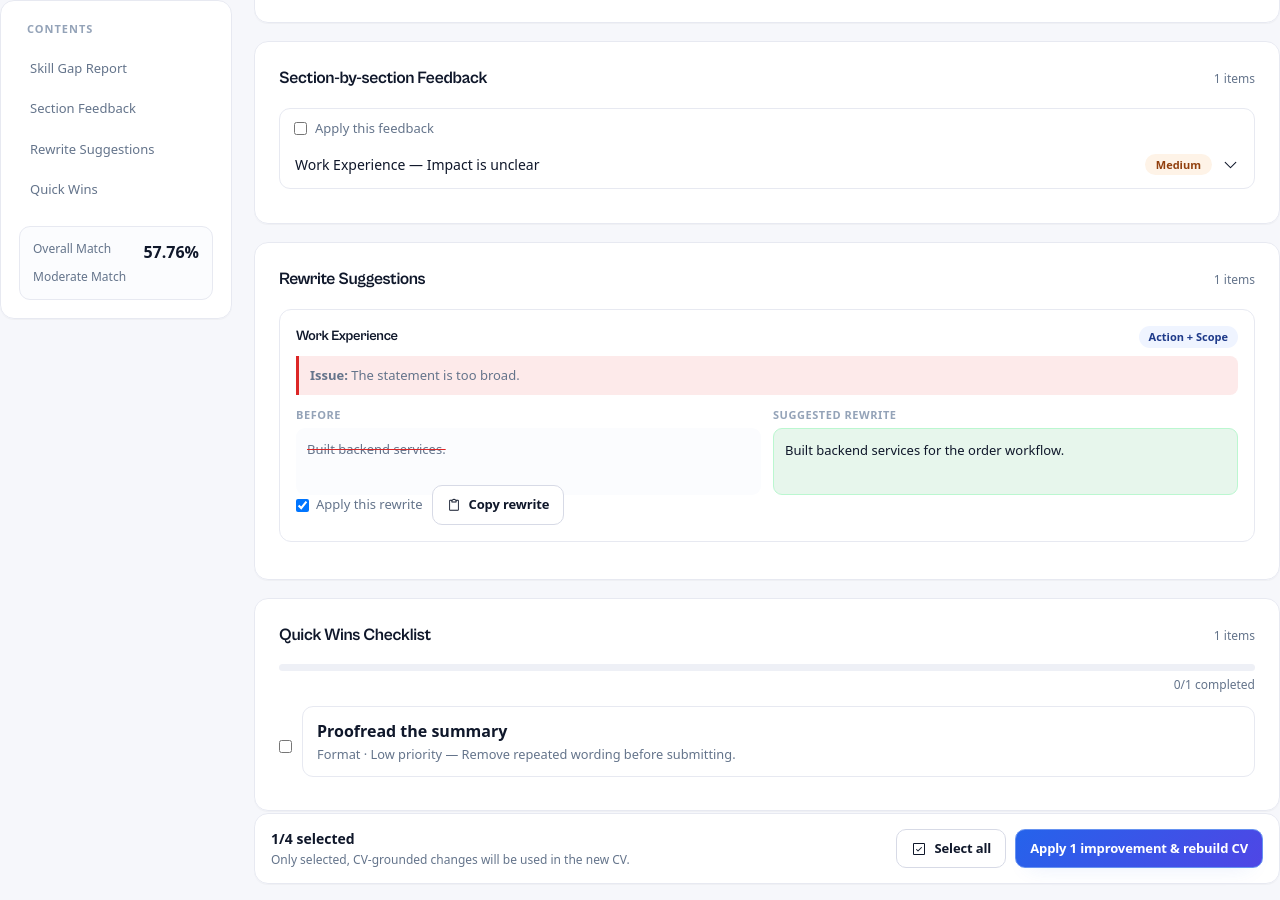
Test: ImprovementScreen acceptance states › reports clipboard success and failure
The width and height of the screenshot is (1280, 900).
(page scrolled)
Click the button with aria-label "Copy rewrite for Work Experience": (498, 505) [432, 485, 564, 525]
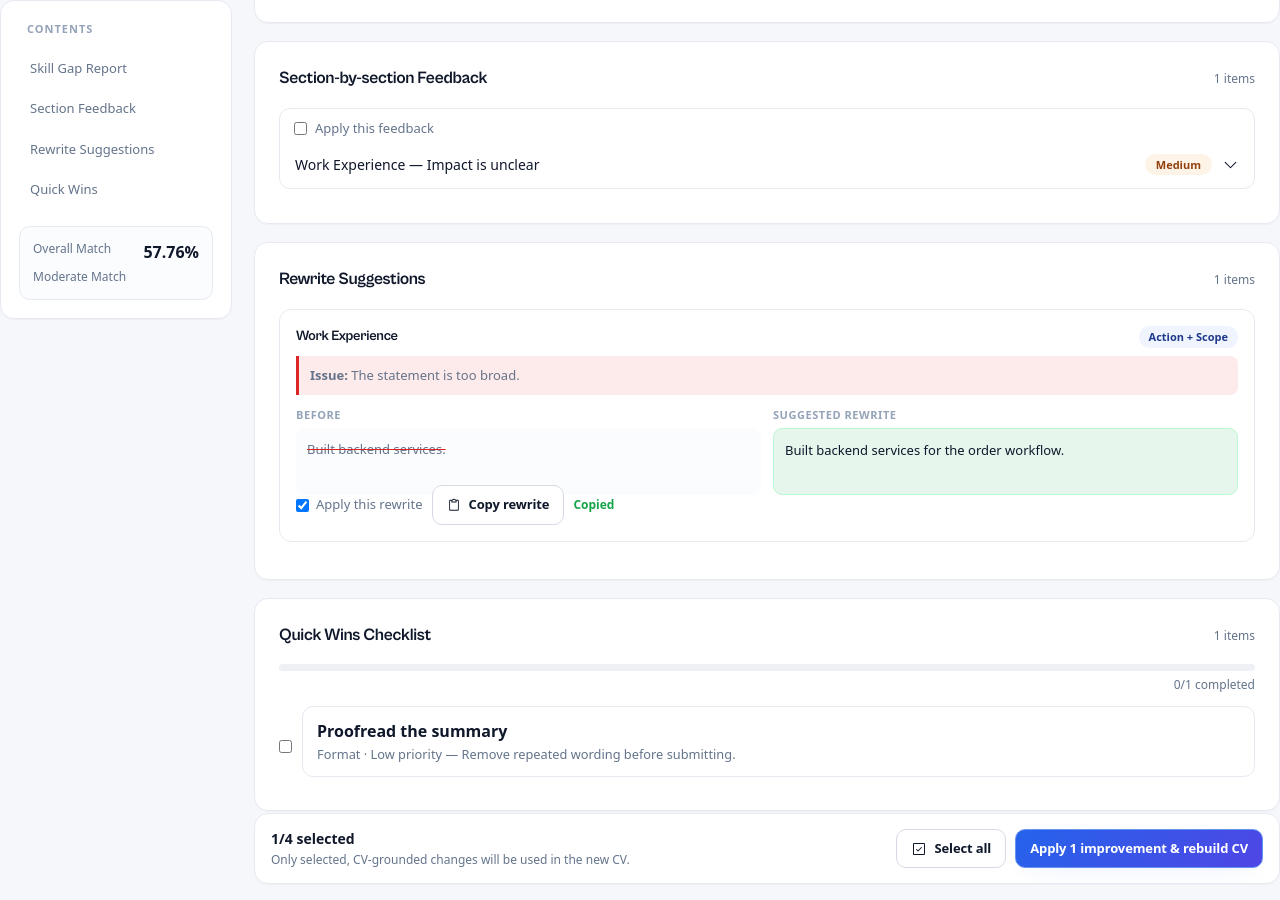
Now the text "Copied" is shown, box [573, 496, 614, 514]
Click the button with aria-label "Copy rewrite for Work Experience": (498, 505) [432, 485, 564, 525]
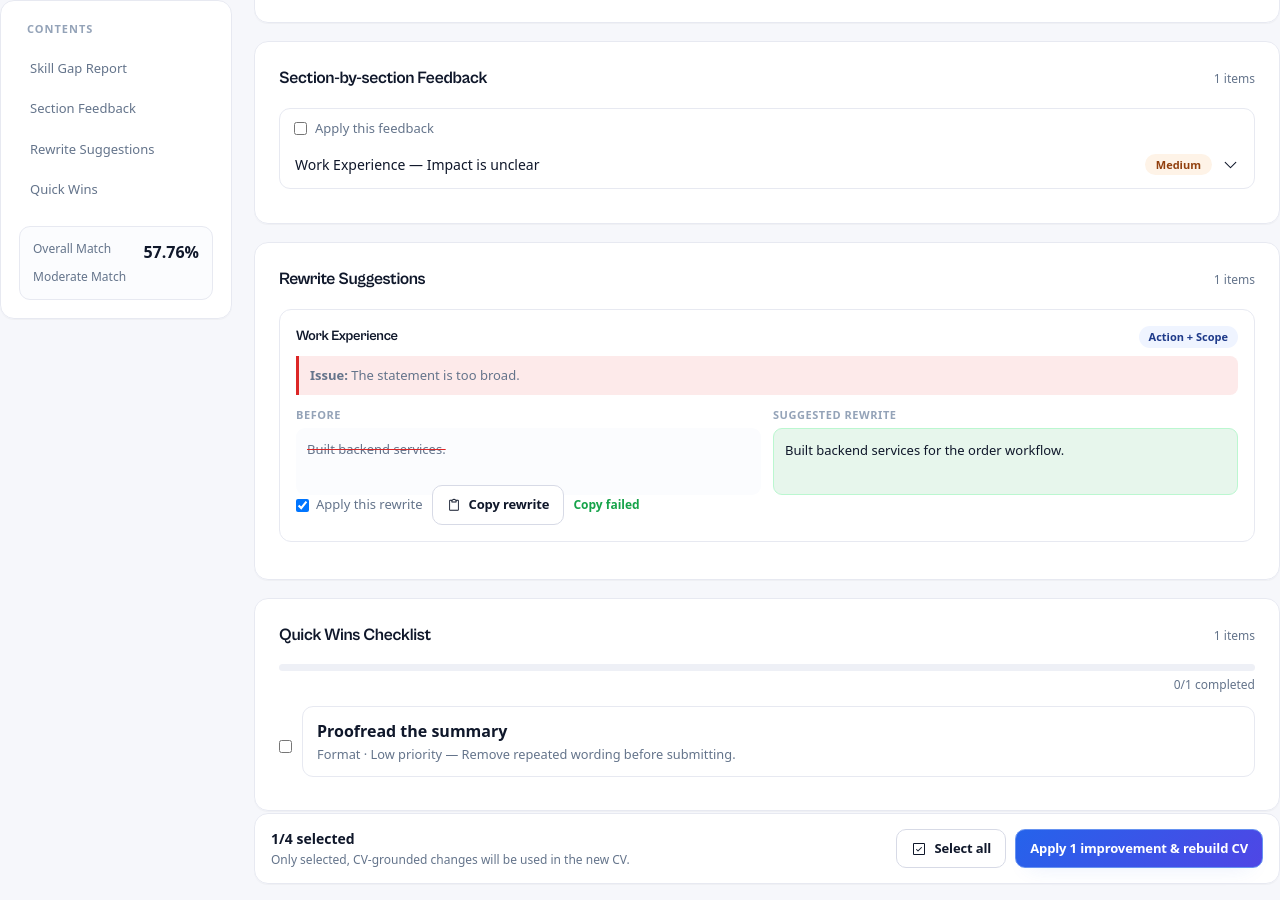
Now the text "Copy failed" is shown, box [573, 496, 640, 514]
